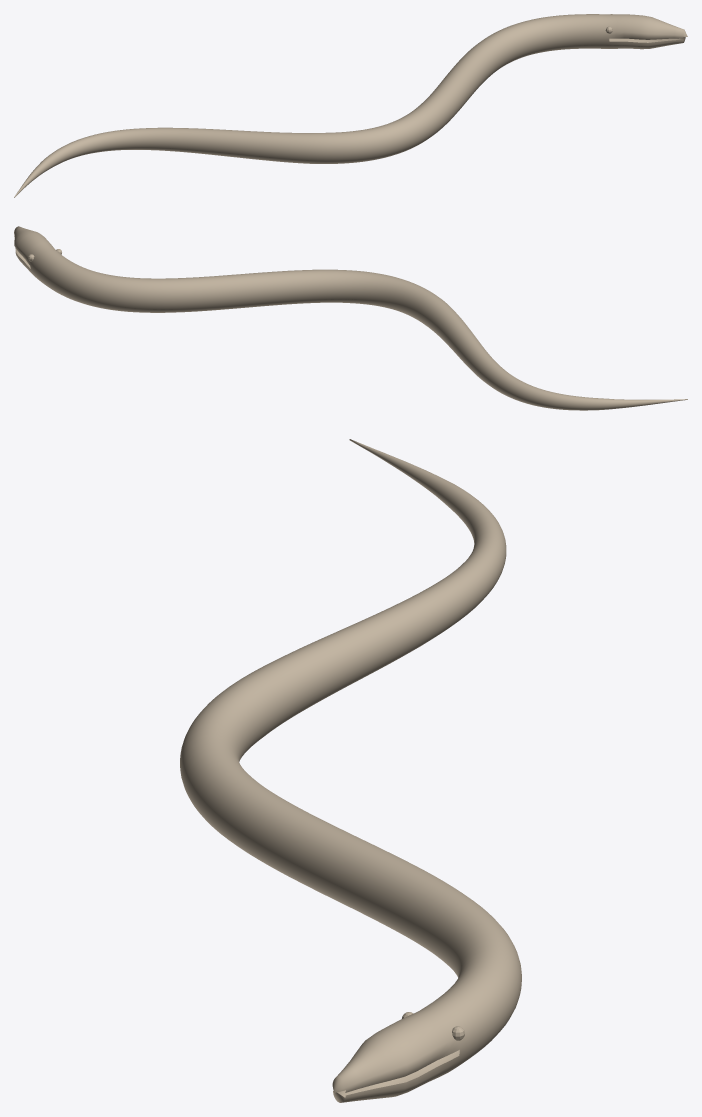
File: 3dcodebench_Snake_seed0.glb
3 renders of one model, top to bottom at view 1: azimuth 30°, elevation 25°; view 2: azimuth 150°, elevation 25°; view 3: azimuth 270°, elevation 25°, orthographic. The views are drawn at different scales.
Parts seen in each view (by area): view 1: object; view 2: object; view 3: object.
Boxes of the visible parts, box(x1,y1,x2,y2) form: object: box(14, 14, 687, 197); object: box(14, 226, 687, 410); object: box(180, 439, 521, 1102).
Bounding box in the file's own units: 2.96 × 0.1379 × 0.6554.
